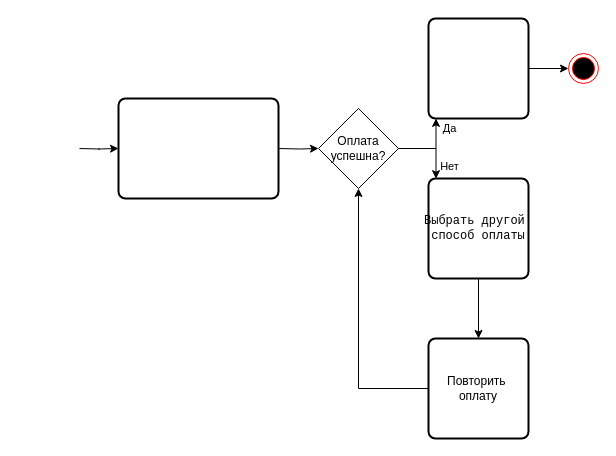
This 616x456 diagram has some shape labels left out. The shapes that lost their labels are listed below. From the top down, each one's centre as x and y in pixels, then its label:
At [478,68]: "Подтвердить заказ".
At [198,148]: "Выполнить оплату".
